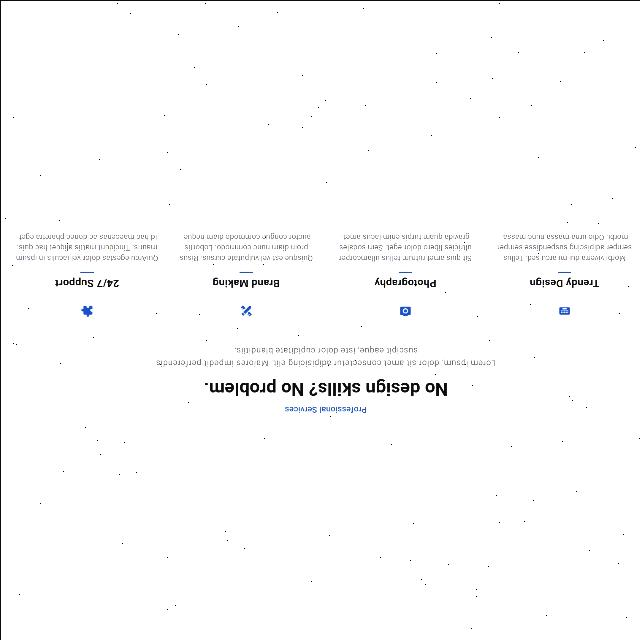QLabel: (203, 379, 449, 398), (14, 232, 158, 262), (177, 232, 313, 262), (495, 232, 631, 262), (338, 232, 472, 262), (156, 358, 497, 368), (235, 346, 418, 354), (528, 276, 600, 288), (210, 276, 280, 288), (372, 276, 436, 288), (54, 276, 118, 288), (284, 406, 368, 414)
VDivider: (557, 270, 571, 274), (397, 271, 411, 273), (238, 271, 252, 273), (79, 271, 93, 273)
VIcon: (75, 298, 97, 322), (234, 300, 256, 322), (552, 300, 574, 322), (394, 300, 414, 322)
